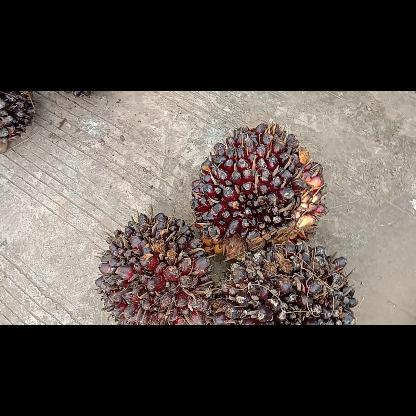TBS mentah: (188, 121, 330, 265), (92, 210, 218, 324), (209, 240, 361, 324)
